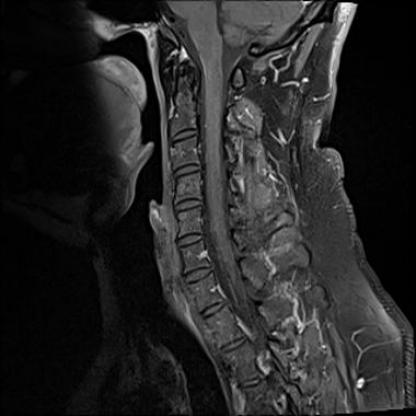Disc Bulgerotation: (182, 263, 215, 290), (170, 160, 203, 181)
